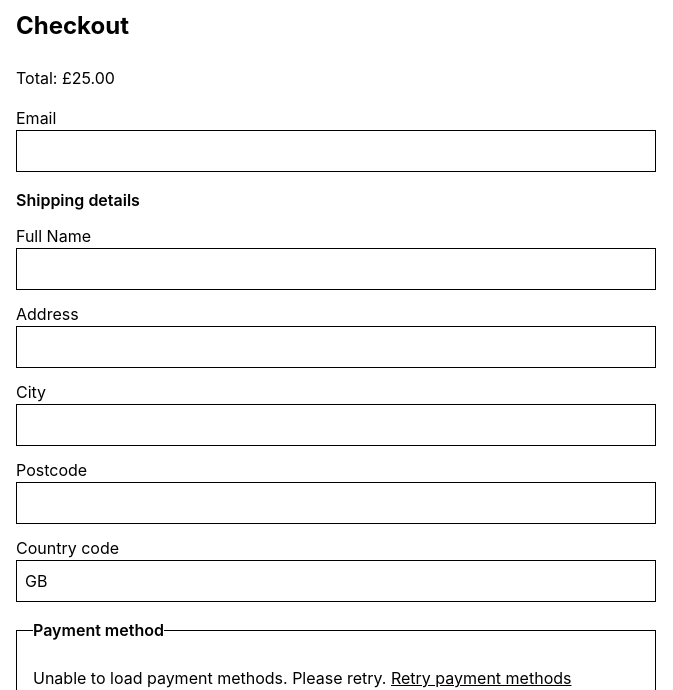
Test case: checkout addresses and payment methods › blocks ordering on metadata failure and supports retry
Click the button "Retry payment methods" at point(481, 678), box [391,666,572,689]
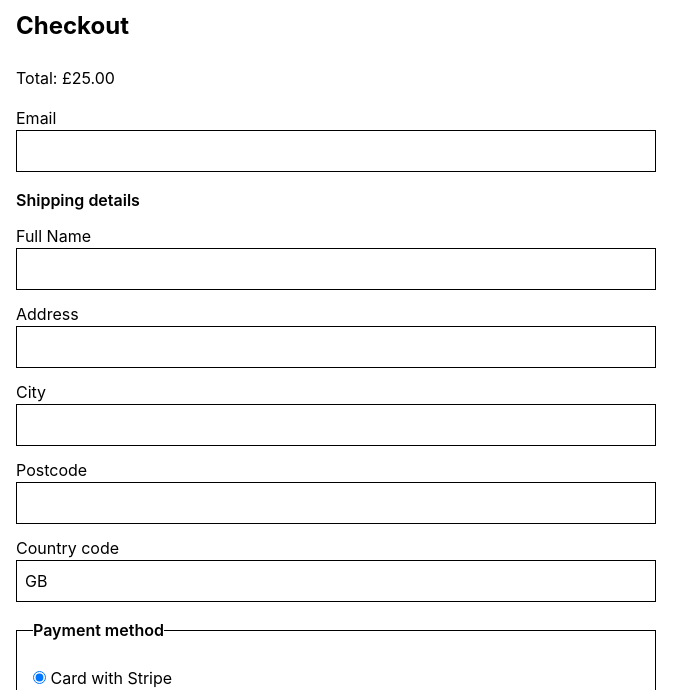
Check: the radio button labelled "Card with Stripe" is shown, box [33,671,46,684]
